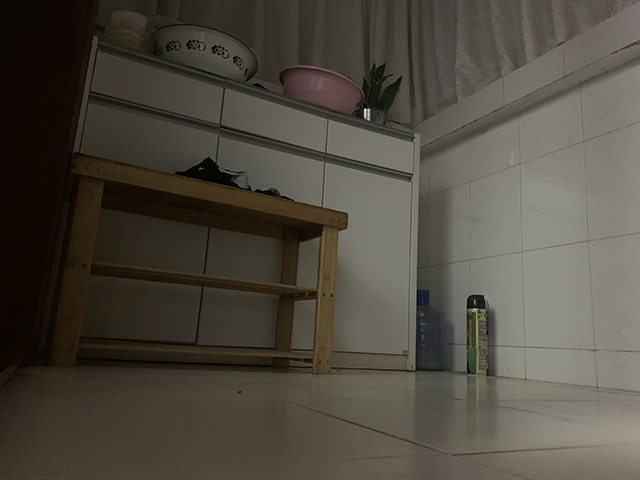cabinet: (44, 31, 423, 374)
